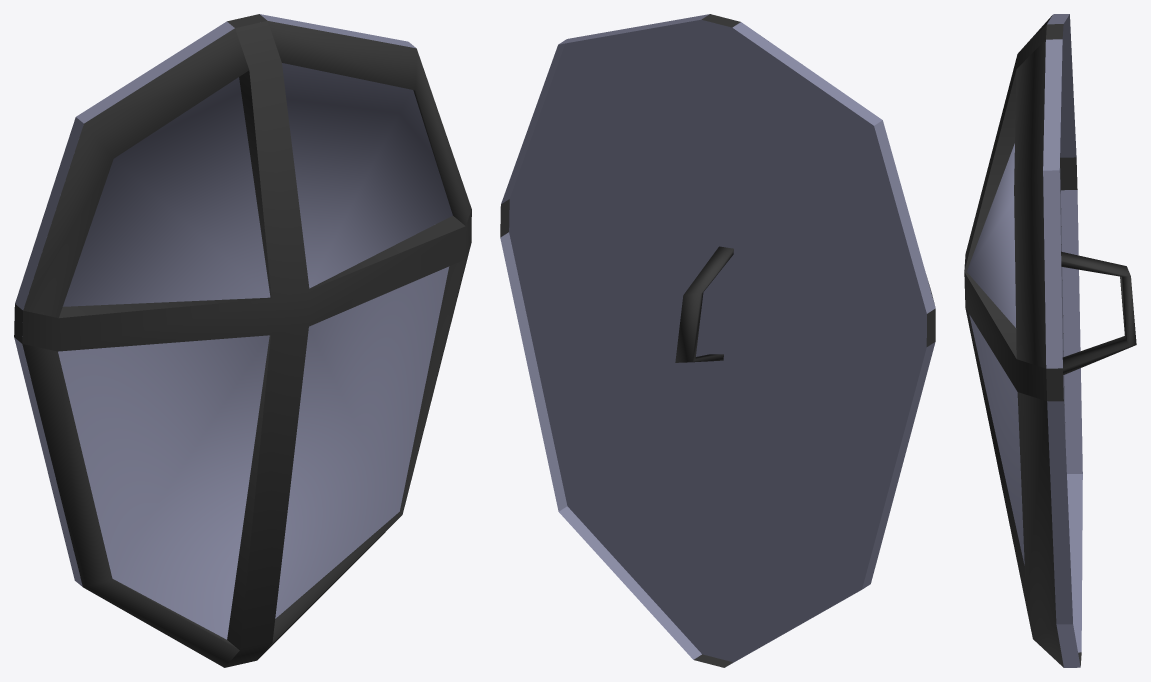
File: mithril_kiteshield.glb
3 views of the same model, side by side, from view 1: azimuth 30°, elevation 25°; view 2: azimuth 150°, elevation 25°; view 3: azimuth 270°, elevation 25° (orthographic). The views are drawn at different scales.
Parts seen in each view (by area): view 1: Steel Kiteshield; view 2: Steel Kiteshield; view 3: Steel Kiteshield.
Boxes of the visible parts, box(x1,y1,x2,y2) form: Steel Kiteshield: box(14, 14, 471, 667); Steel Kiteshield: box(500, 14, 935, 667); Steel Kiteshield: box(964, 14, 1136, 667).
Bounding box in the file's own units: 0.381 × 0.532 × 0.132.
